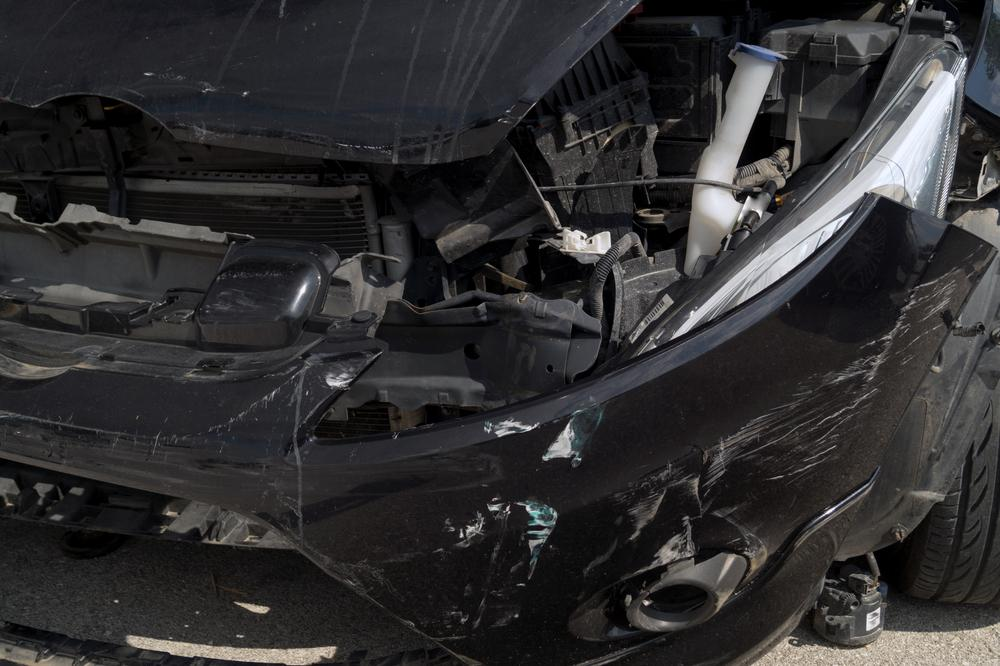scratch: (439, 272, 967, 630), (145, 353, 372, 455)
